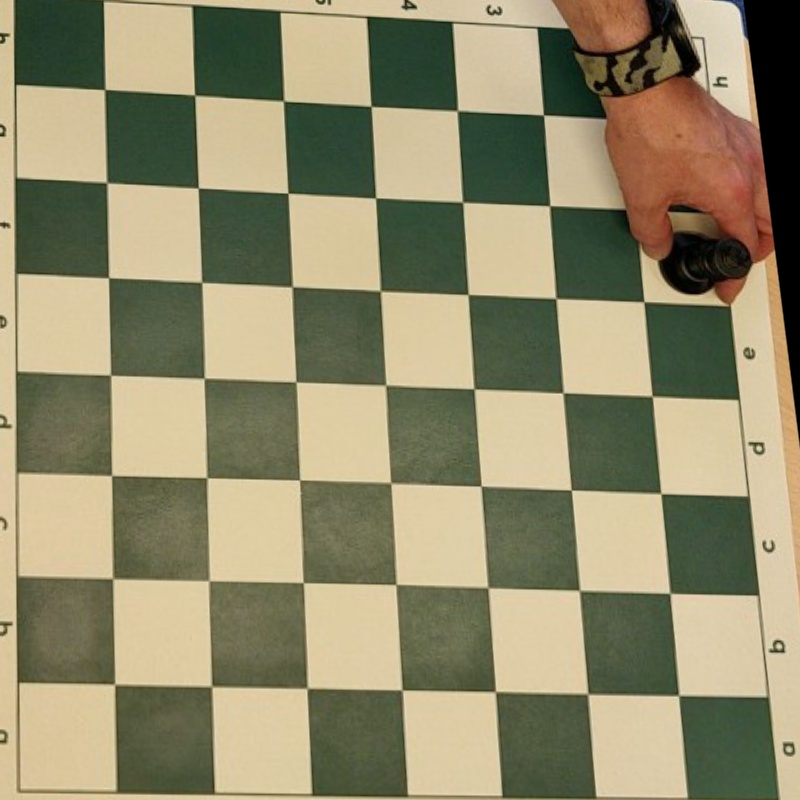black-king: (661, 232, 752, 295)
